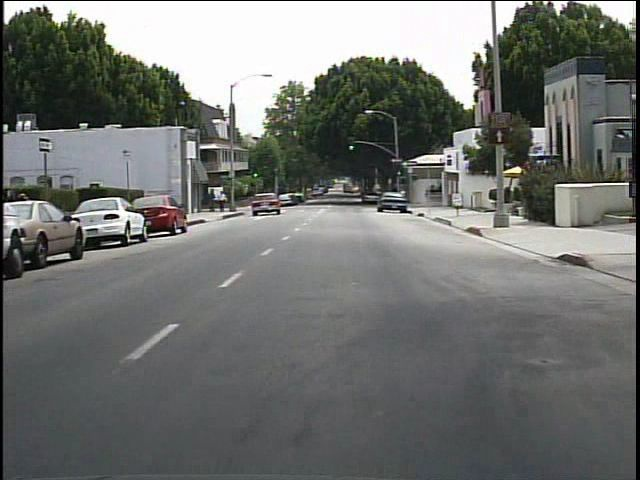person: (206, 190, 219, 215), (218, 189, 229, 213)
